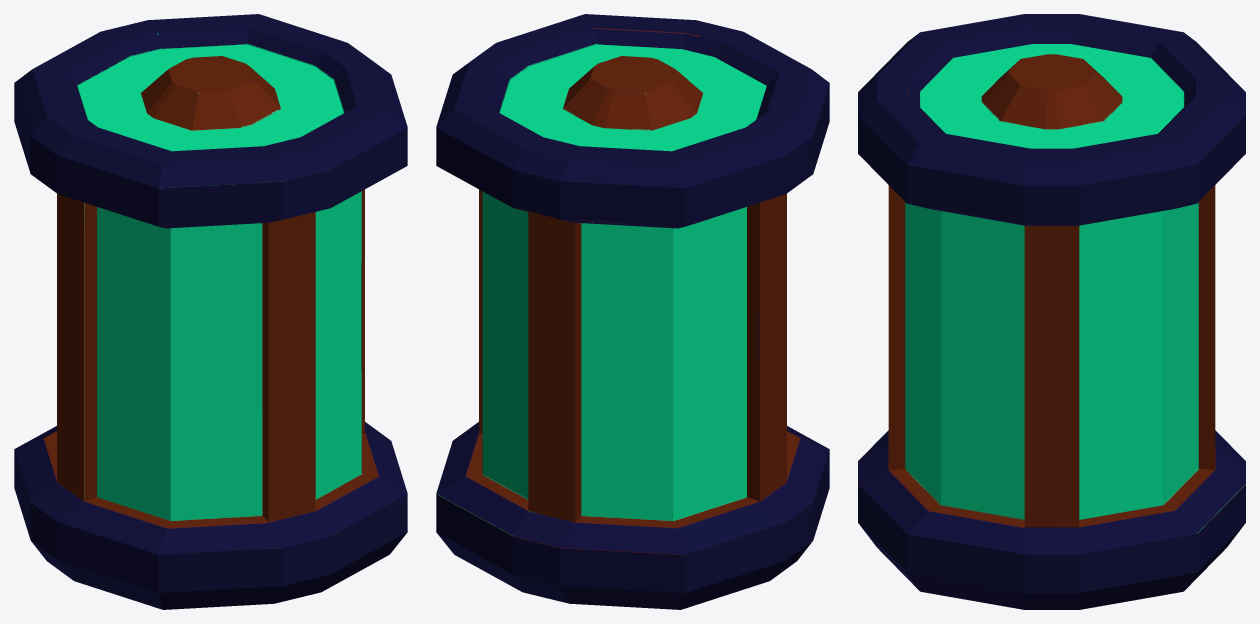
File: Bala Cañon Futurista.fbx
3 renders of one model, left to right at view 1: azimuth 30°, elevation 25°; view 2: azimuth 150°, elevation 25°; view 3: azimuth 270°, elevation 25°, orthographic.
Visible parts, largest first — view 1: BalaCañonModerna; view 2: BalaCañonModerna; view 3: BalaCañonModerna.
Part boxes in pixels (bbox=[...]): BalaCañonModerna: bbox=[14, 14, 407, 609]; BalaCañonModerna: bbox=[436, 14, 829, 609]; BalaCañonModerna: bbox=[858, 14, 1245, 609].
Bounding box in the file's own units: 189 × 258 × 189.
Materials: 1 (1 with a texture image).
